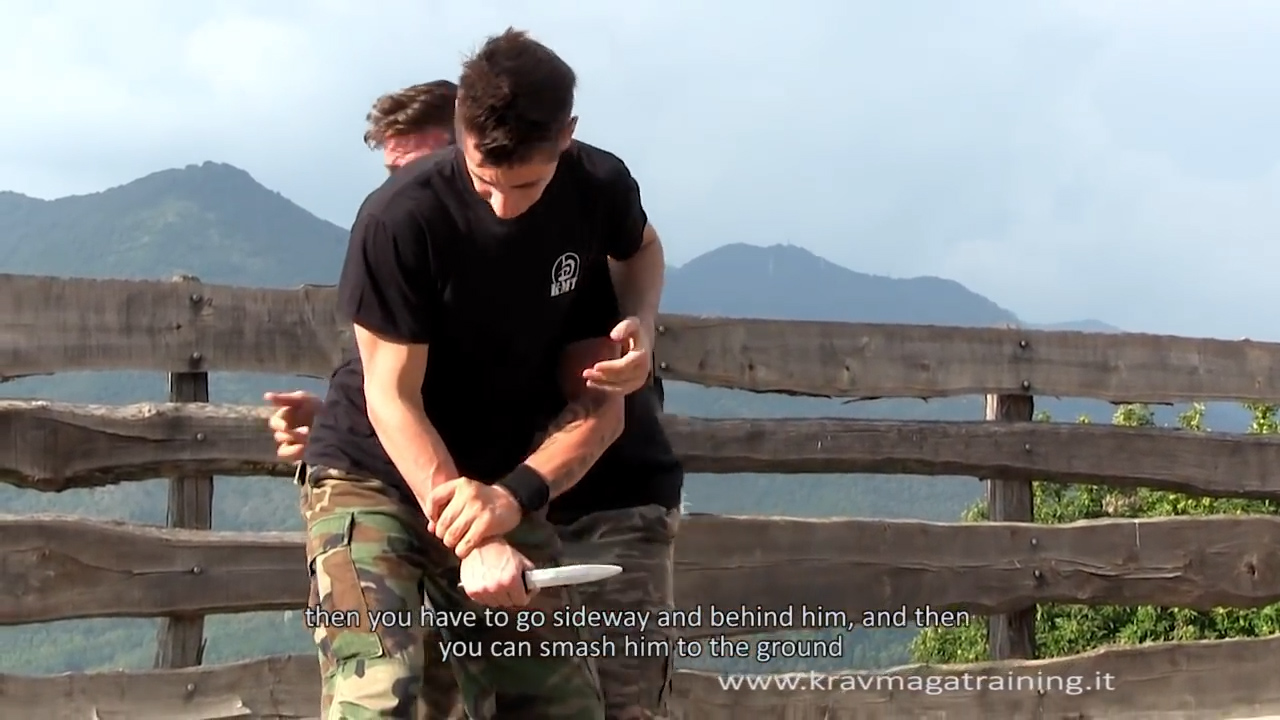knife: (454, 545, 639, 616)
